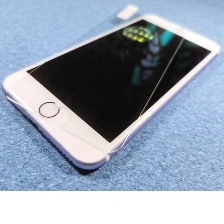phone: (0, 9, 224, 178)
